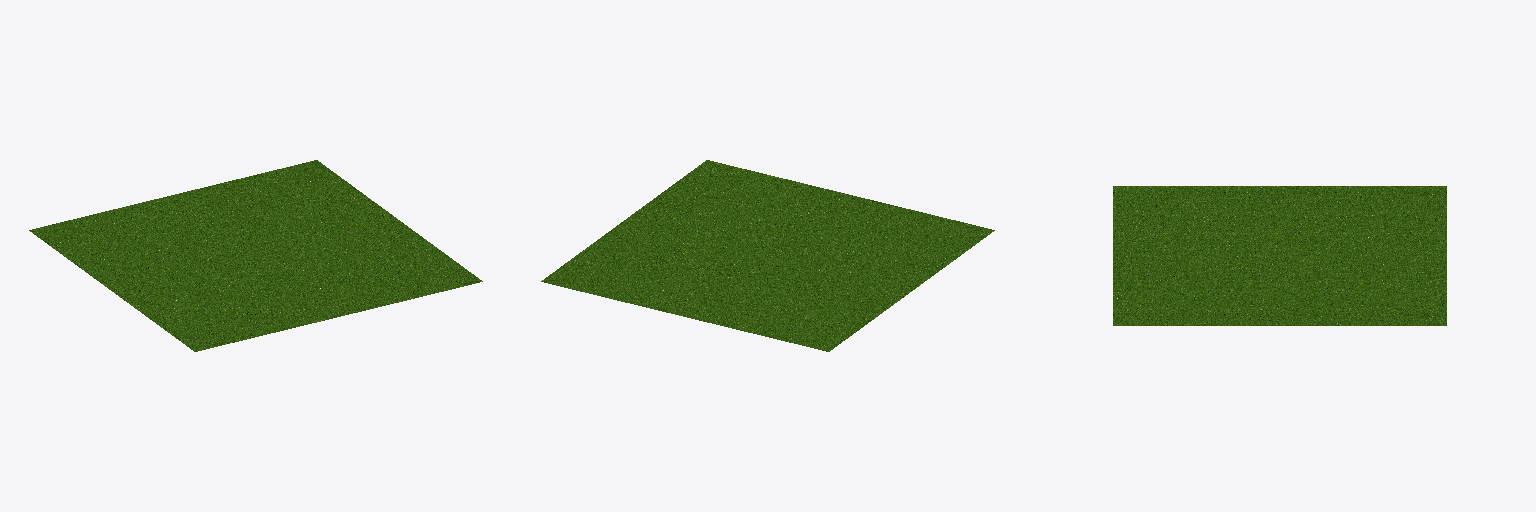
3 views of the same model, side by side, from view 1: azimuth 30°, elevation 25°; view 2: azimuth 150°, elevation 25°; view 3: azimuth 270°, elevation 25° (orthographic).
Parts seen in each view (by area): view 1: ground; view 2: ground; view 3: ground.
Boxes of the visible parts, box(x1,y1,x2,y2) form: ground: box(29, 160, 482, 351); ground: box(541, 160, 994, 351); ground: box(1113, 186, 1446, 325).
Size of the model in its own units: 100 by 0 by 100.
1 materials, 1 textured.